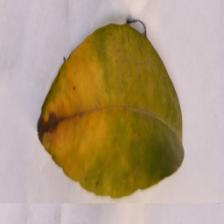black spot: (60, 70, 112, 162)
